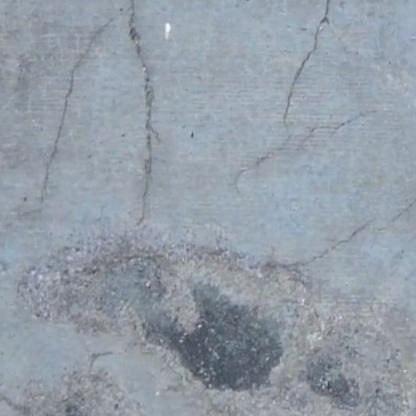Cracks: (28, 0, 165, 237), (236, 0, 357, 189), (244, 164, 416, 277), (0, 372, 45, 416)
